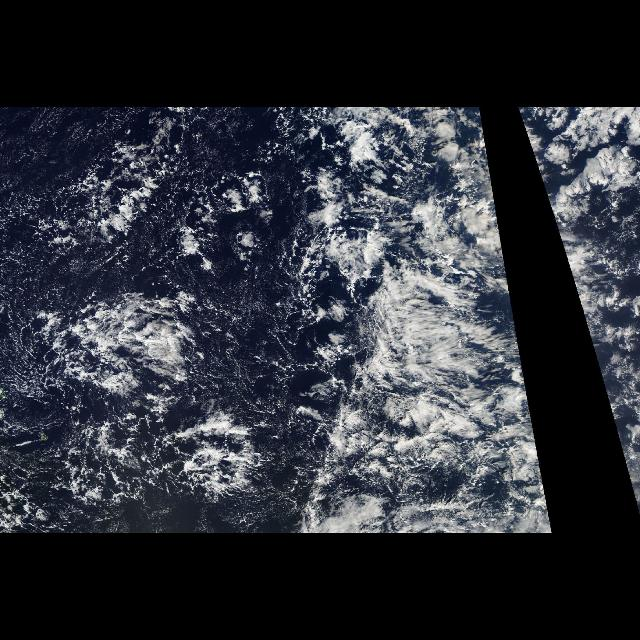Fish: (45, 137, 172, 273)
Gravel: (14, 112, 320, 532)
Sugar: (216, 269, 304, 419)
